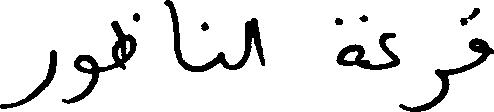X: (0, 45, 55, 111), (402, 64, 446, 111), (470, 3, 493, 73), (338, 11, 362, 72), (113, 10, 133, 74), (75, 50, 96, 106), (167, 0, 180, 69), (381, 28, 397, 74), (252, 13, 264, 70), (245, 16, 250, 67), (218, 47, 226, 73)
